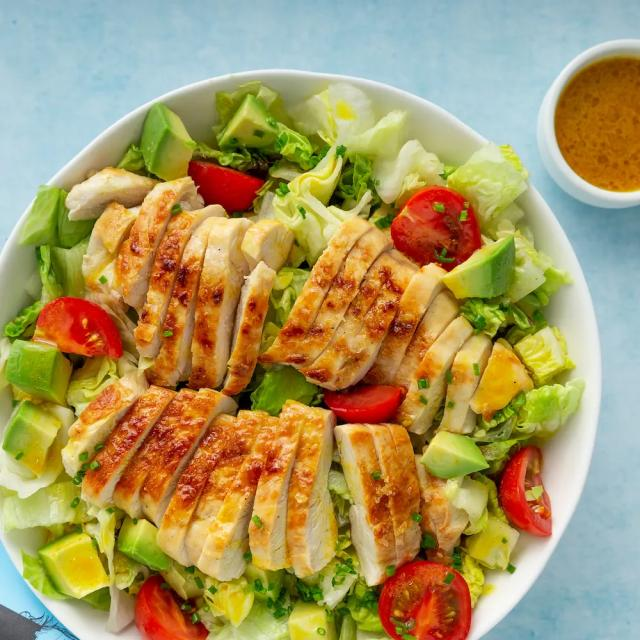pollo: (77, 370, 428, 575), (98, 202, 261, 376)
